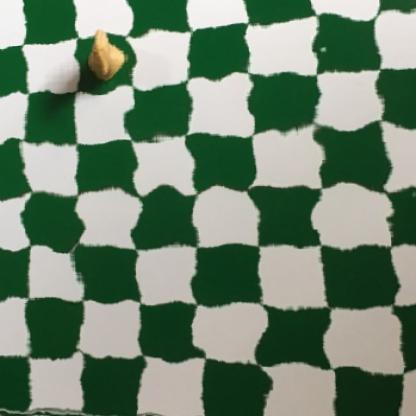white-knight: (84, 29, 128, 85)
